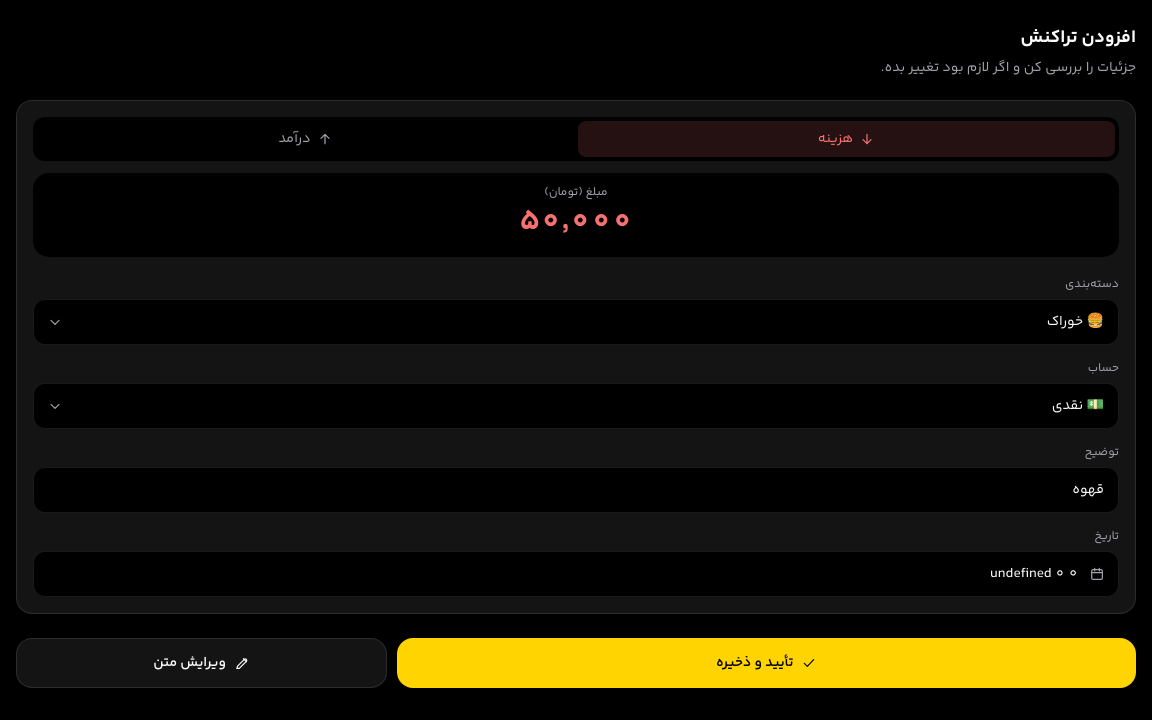
Scenario: AddTransactionForm - offline transaction queue › removes the queued item and still shows the inline error on a real server-side rejection
This screenshot has width=1152, height=720.
Click the button "تأیید و ذخیره". click: (767, 663)
box: [397, 638, 1136, 688]
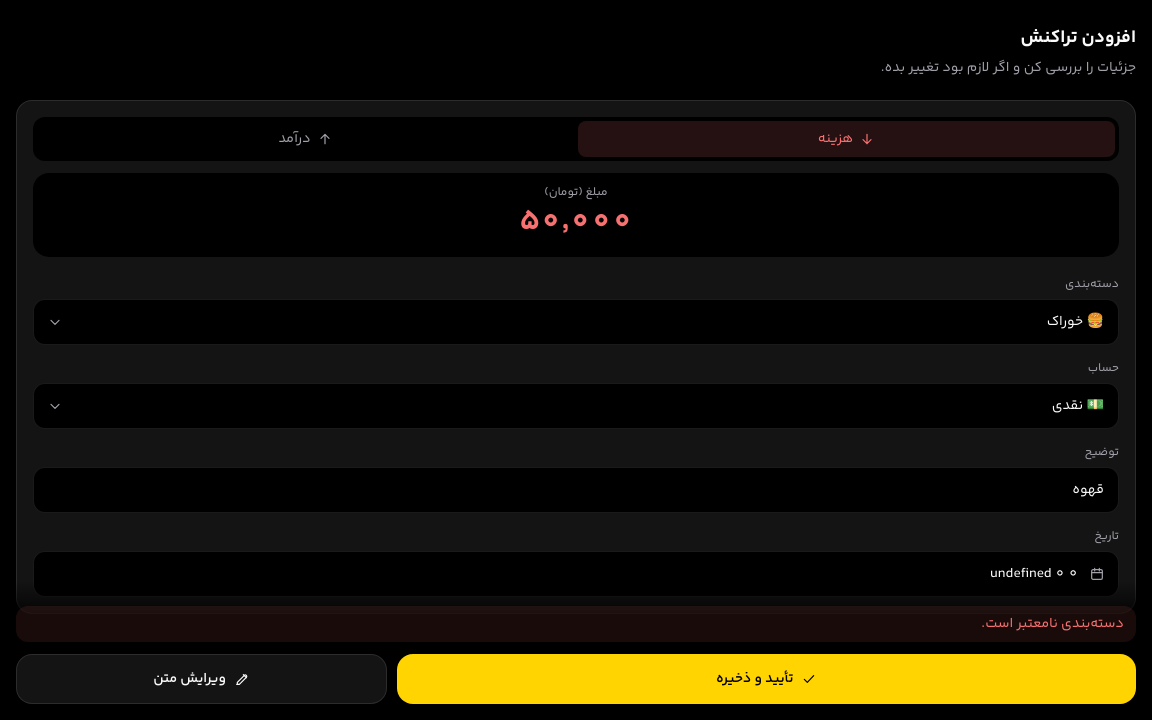
Expected: the text "دسته‌بندی نامعتبر است." is shown, [16, 606, 1136, 642]
